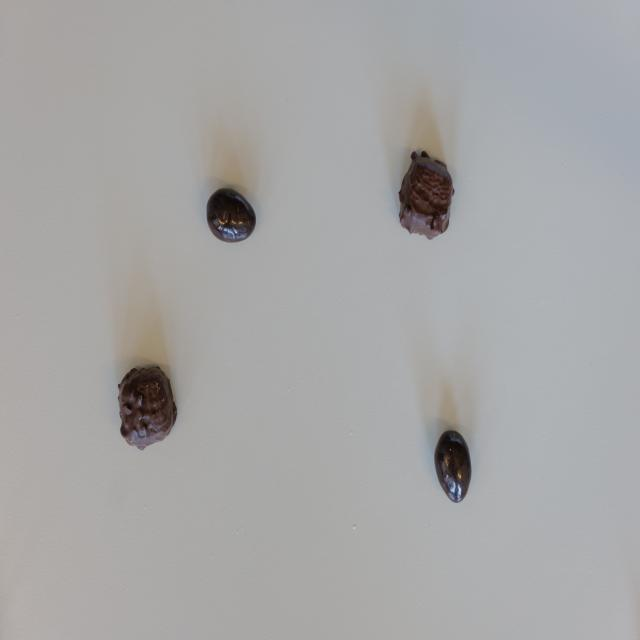Jelly_Black: (207, 188, 256, 244), (435, 430, 471, 503)
Tentation_noir: (116, 364, 177, 452), (399, 149, 455, 241)
